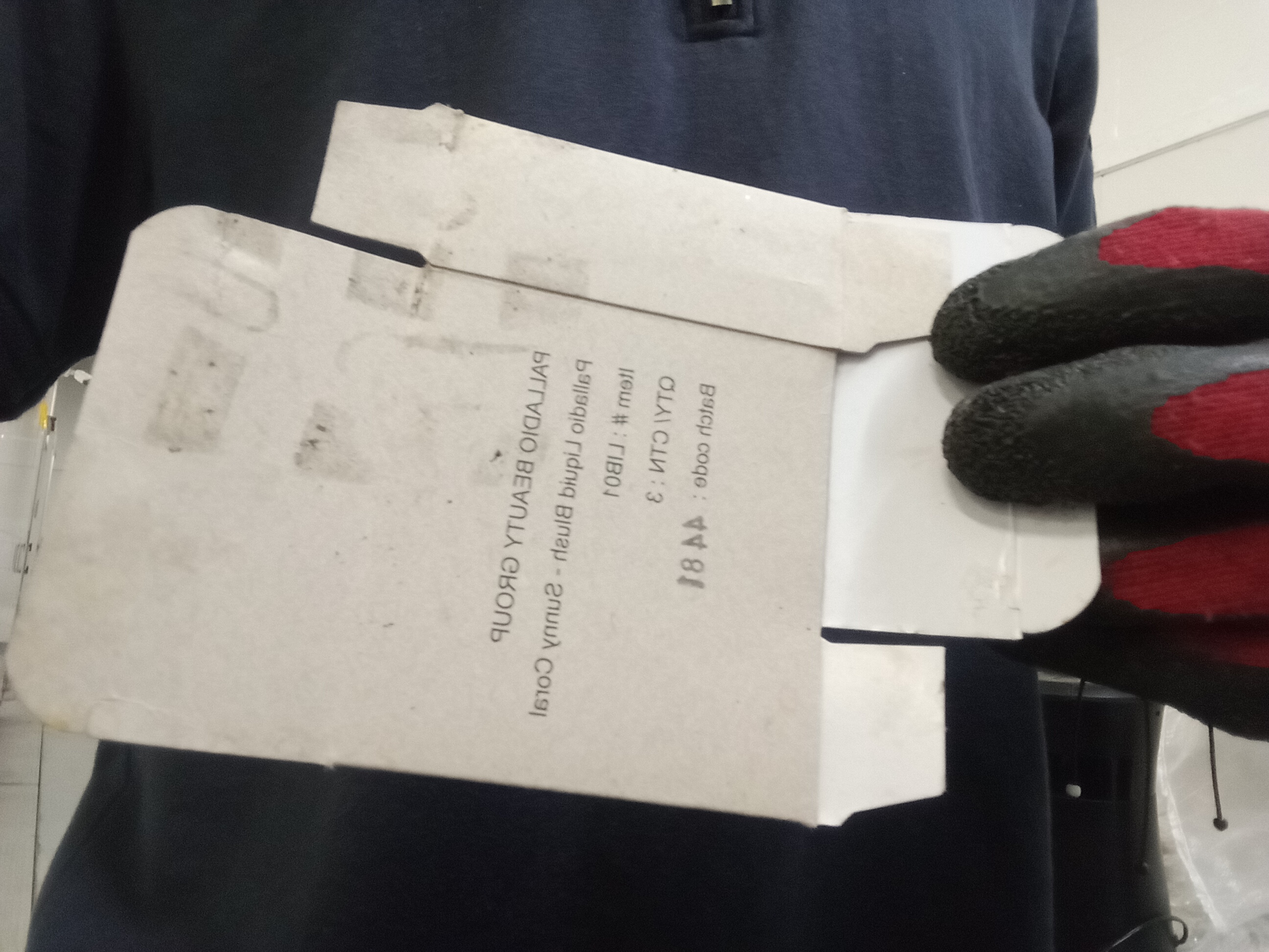Carton: (17, 98, 1156, 827)
